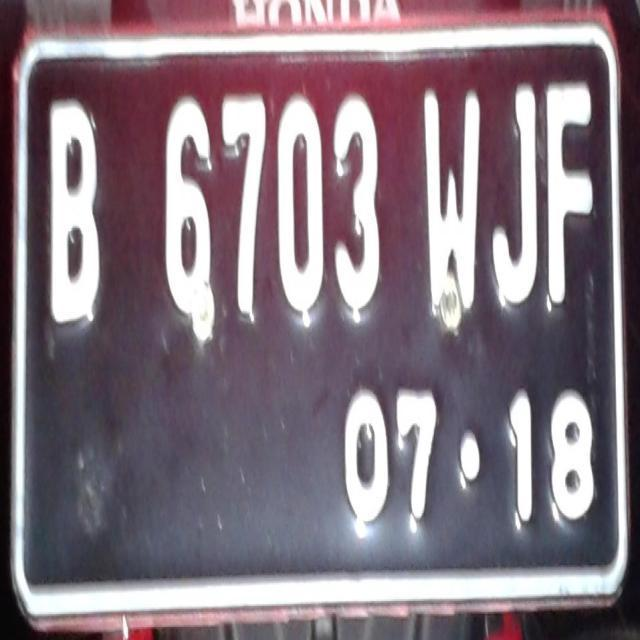0: (274, 88, 328, 319)
3: (329, 87, 383, 312)
6: (161, 86, 216, 332)
7: (218, 80, 270, 331)
B: (46, 90, 105, 340)
F: (544, 65, 596, 311)
J: (486, 71, 543, 310)
W: (420, 73, 485, 316)
